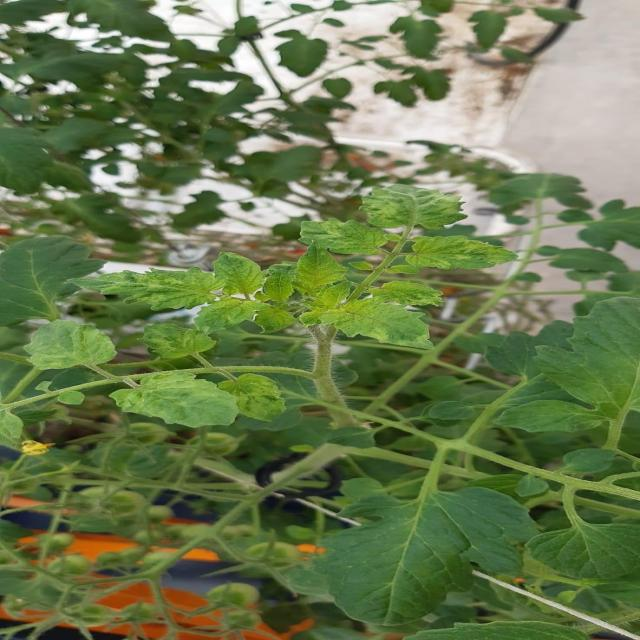T_L_H: (318, 487, 537, 626), (537, 299, 640, 417), (1, 237, 107, 327), (529, 522, 640, 580), (359, 184, 467, 229), (497, 401, 608, 434)
T_L_R: (112, 372, 239, 429), (299, 299, 433, 349), (70, 269, 224, 311), (25, 321, 117, 371), (407, 237, 518, 271), (302, 220, 388, 256), (220, 375, 285, 422), (296, 244, 348, 297), (142, 325, 218, 360), (196, 300, 269, 335), (215, 254, 266, 296), (369, 282, 442, 306), (264, 264, 296, 304), (256, 309, 296, 334)
T_S_H: (453, 444, 640, 500), (6, 379, 123, 410), (188, 367, 315, 379)
T_S_R: (310, 326, 346, 409), (331, 411, 359, 428)
